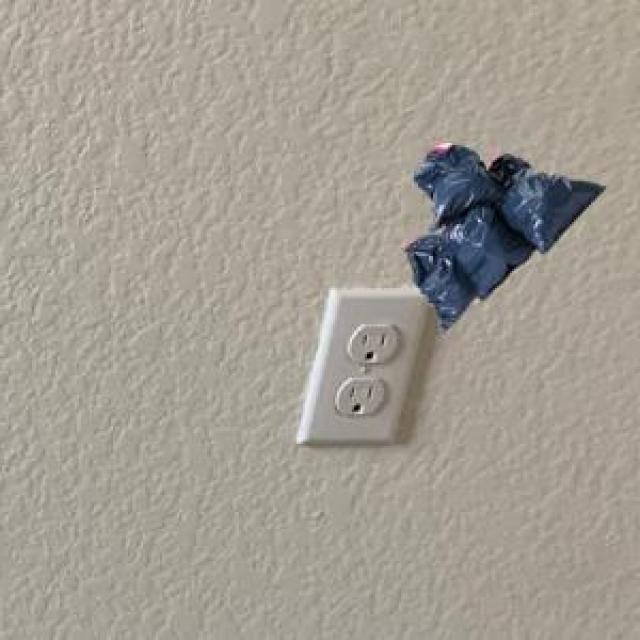Trashbag: (449, 211, 529, 292), (512, 171, 600, 243), (406, 238, 462, 329), (420, 147, 490, 216)
